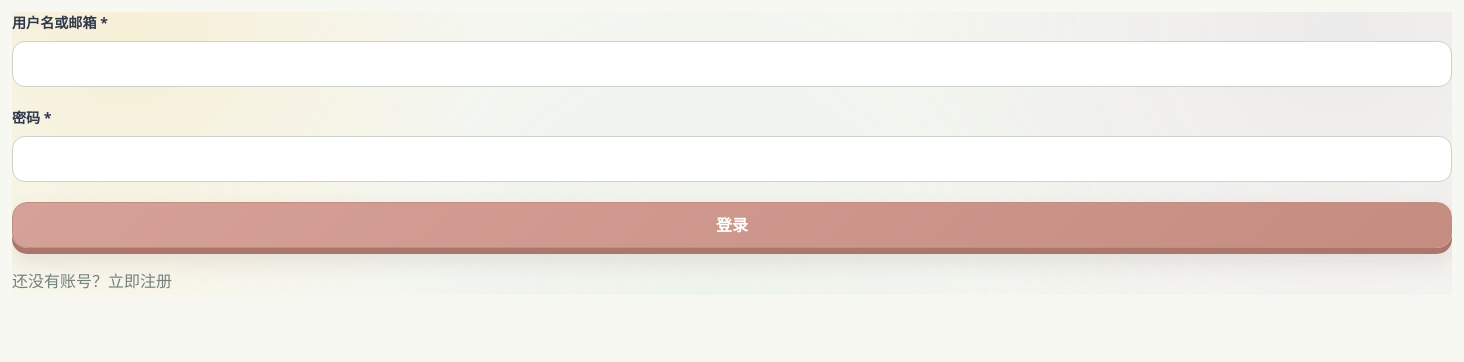
Test: AuthForm › shows field-level login validation errors
Click the button "登录" at point(732, 225), box x1=12 y1=202 x2=1452 y2=248
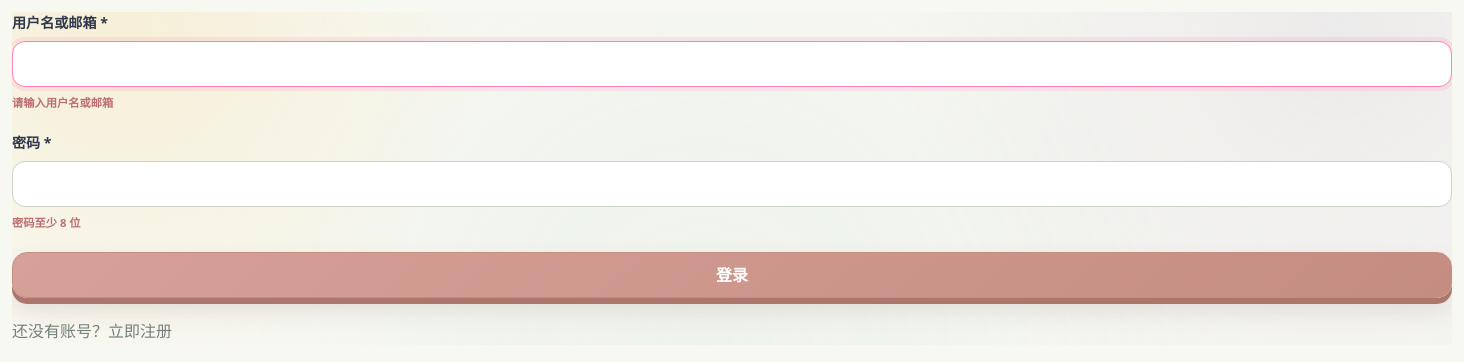
Expected: the text "请输入用户名或邮箱" is shown, x1=12 y1=95 x2=113 y2=110
